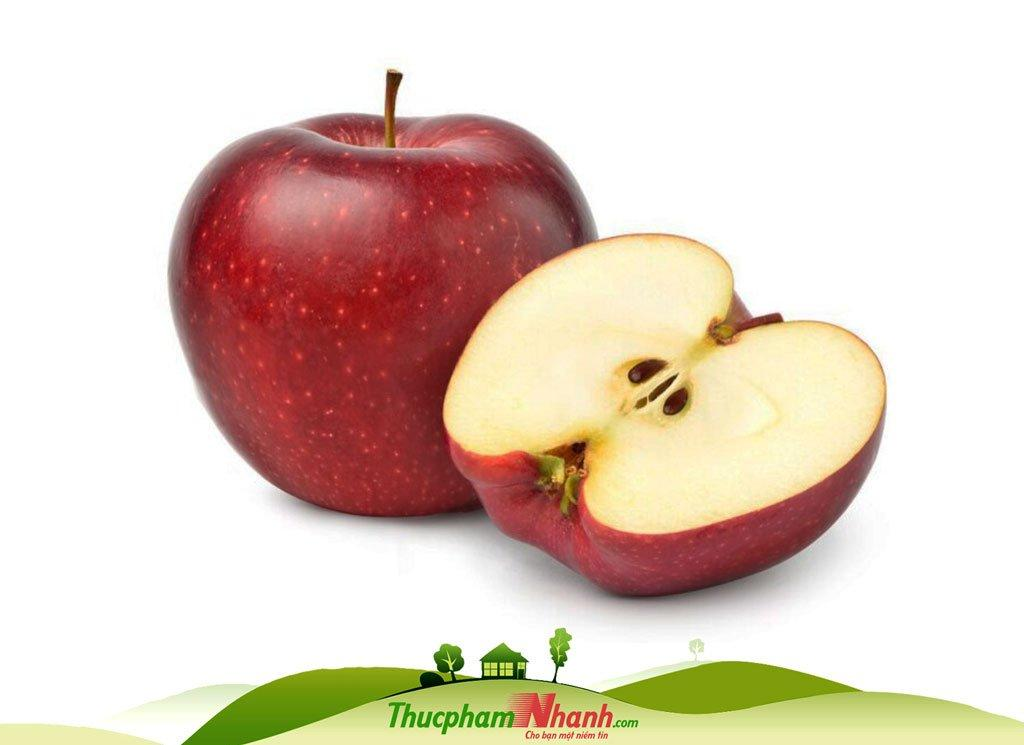apples: (168, 63, 893, 602)
